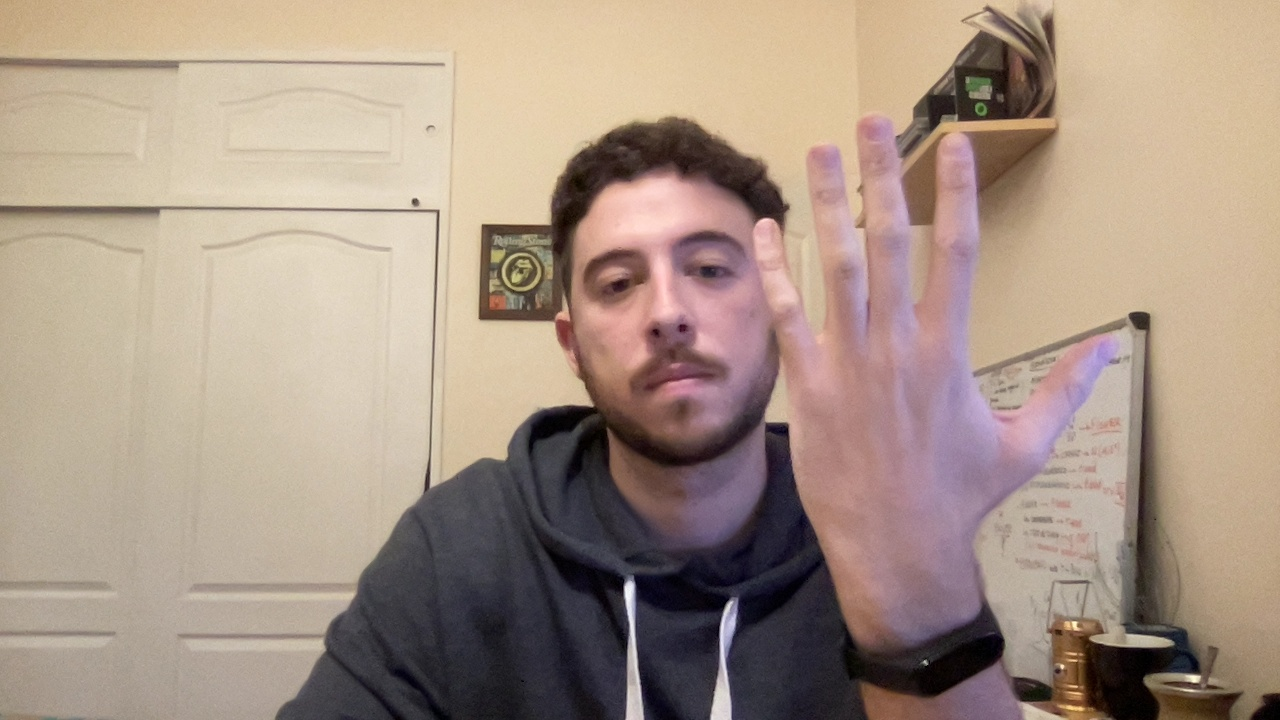abierto: (733, 105, 1135, 531)
